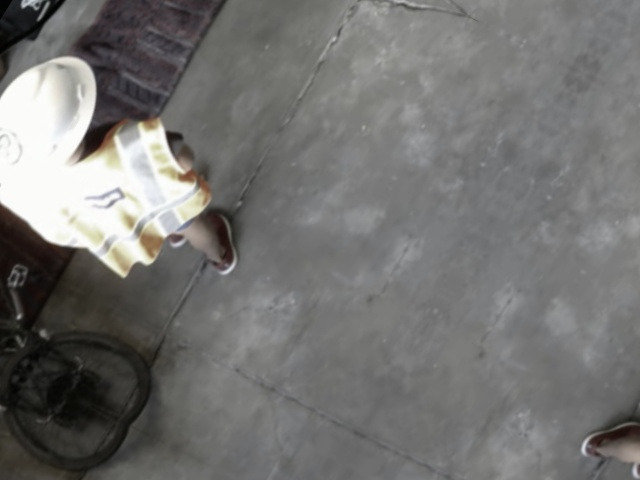eight: (0, 123, 30, 173)
